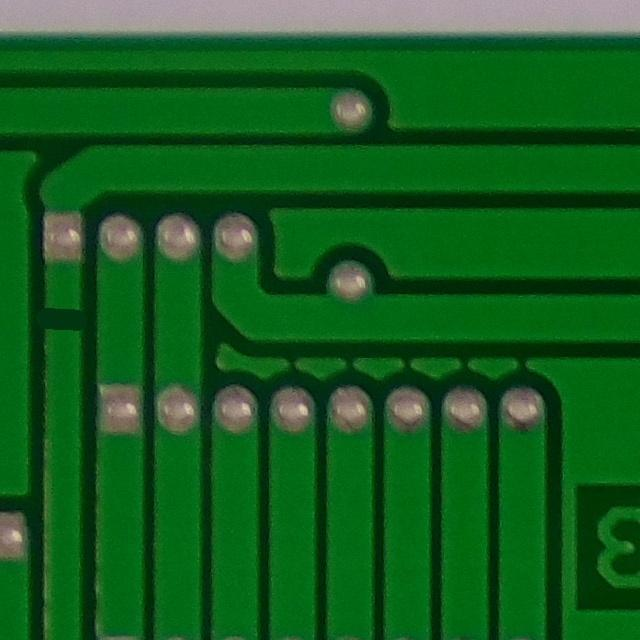open_circuit: (33, 286, 93, 348)
